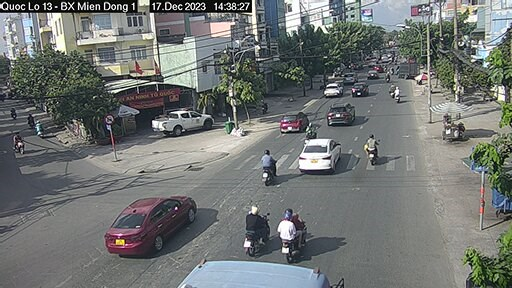bus: (330, 104, 356, 128)
car: (104, 195, 202, 254), (151, 109, 216, 136), (303, 139, 345, 171), (277, 114, 310, 132), (352, 79, 372, 100), (321, 83, 343, 97)
motorbike: (243, 194, 271, 253), (279, 212, 307, 251), (366, 133, 387, 172), (260, 147, 279, 180)
